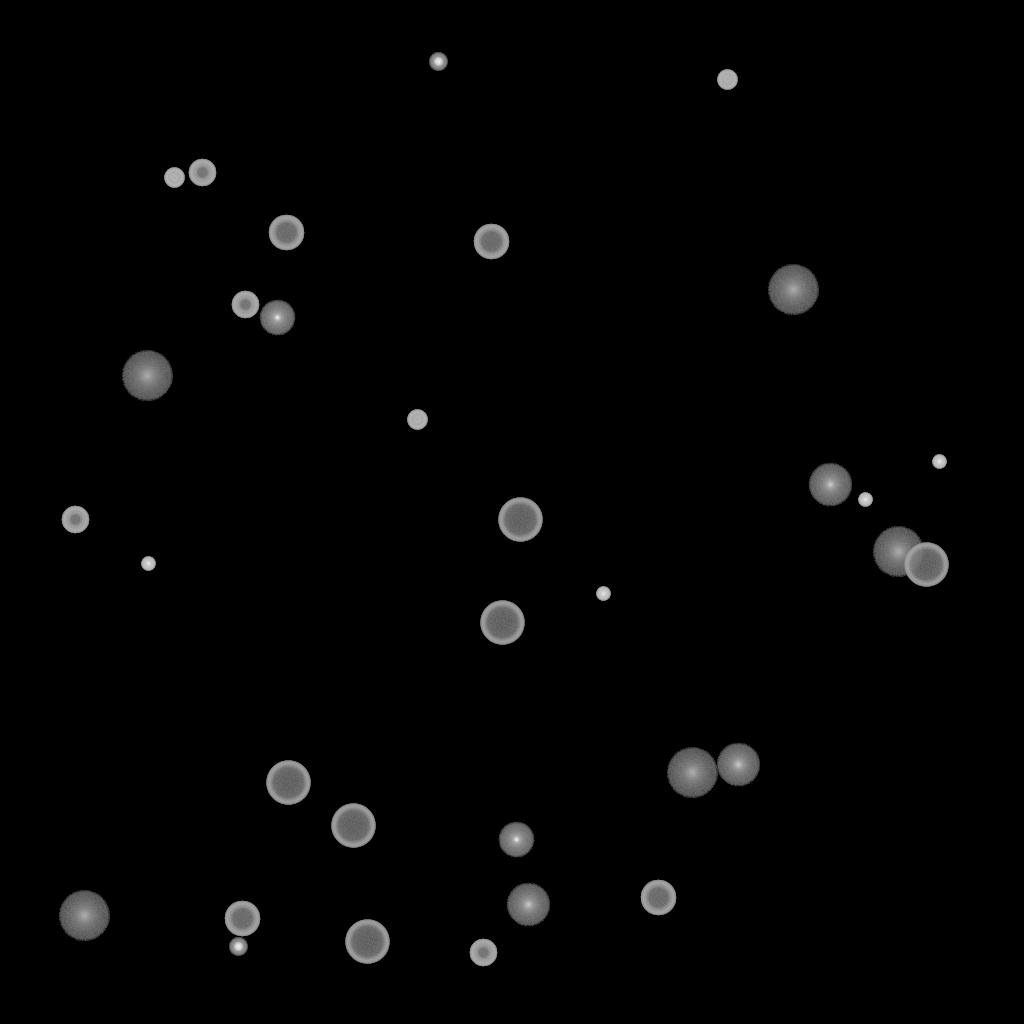depth:-20: (229, 938, 247, 956), (429, 53, 447, 71)
depth:-30: (596, 587, 610, 601), (858, 493, 872, 507), (932, 455, 946, 469), (141, 557, 155, 571)
depth:-40: (407, 410, 427, 430), (717, 70, 737, 90), (164, 168, 184, 188)
depth:-50: (231, 291, 259, 319), (188, 159, 216, 187), (61, 506, 89, 534), (469, 939, 497, 967)
depth:-60: (224, 901, 260, 937), (473, 224, 509, 260), (640, 880, 676, 916), (268, 215, 304, 251)
depth:-70: (480, 601, 524, 645), (904, 543, 948, 587), (498, 498, 542, 542), (266, 761, 310, 805), (331, 804, 375, 848), (345, 920, 389, 964)
depth:0: (259, 300, 295, 336), (498, 822, 534, 858)
depth:10: (506, 883, 550, 927), (716, 743, 760, 787), (808, 463, 852, 507)
depth:20: (121, 351, 173, 401), (58, 891, 110, 941), (767, 265, 819, 315), (872, 527, 924, 577), (666, 748, 718, 798)
